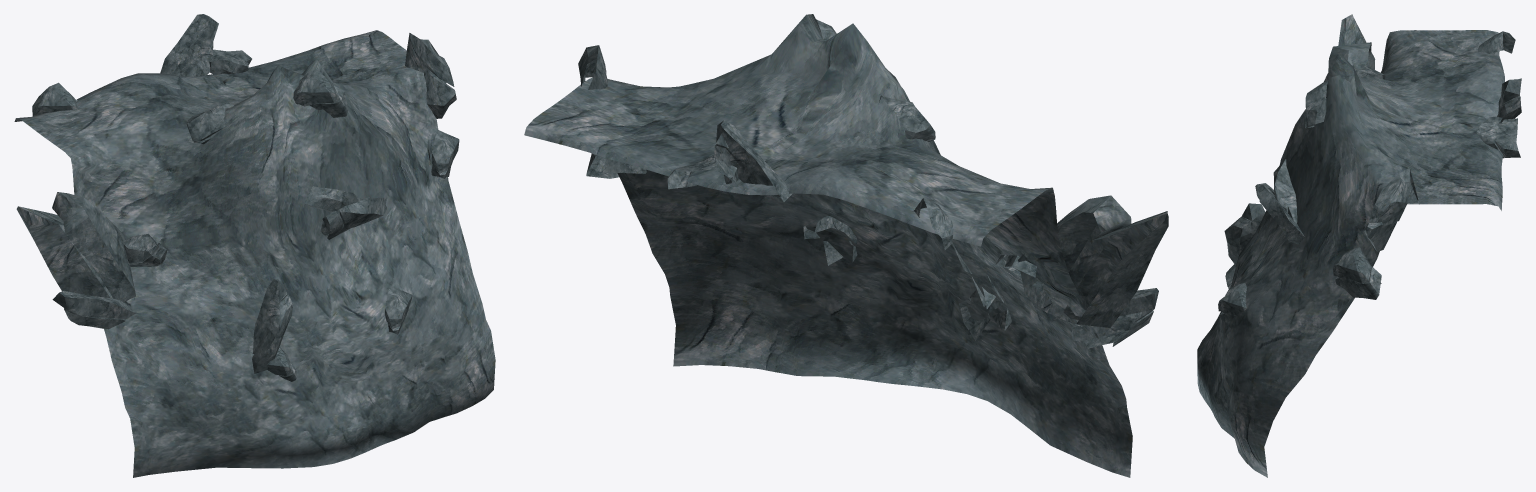
Rendered from PlateauPiece1.fbx.
The picture shows the model from 3 angles, left to right: view 1: azimuth 30°, elevation 25°; view 2: azimuth 150°, elevation 25°; view 3: azimuth 270°, elevation 25°; orthographic projection. The views are drawn at different scales.
Parts seen in each view (by area): view 1: PlateauPiece1; view 2: PlateauPiece1; view 3: PlateauPiece1.
Boxes of the visible parts, <box> form: PlateauPiece1: <box>14,14,495,477</box>; PlateauPiece1: <box>524,14,1168,477</box>; PlateauPiece1: <box>1197,14,1521,477</box>.
Bounding box in the file's own units: 12.43 × 9.05 × 7.88.
Materials: 3 (3 with a texture image).
